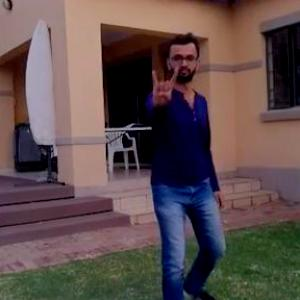takeoff-hand: (144, 61, 182, 110)
